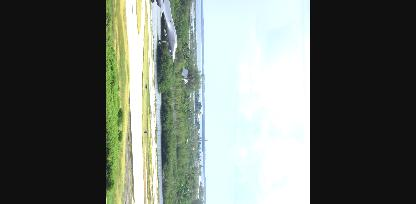AV8B: (150, 0, 178, 61)
